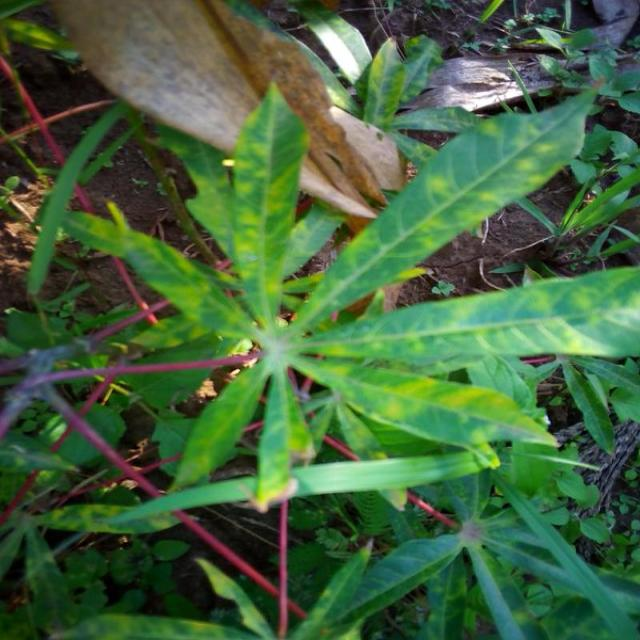cassava leaf: (51, 0, 407, 224), (293, 79, 603, 333)
